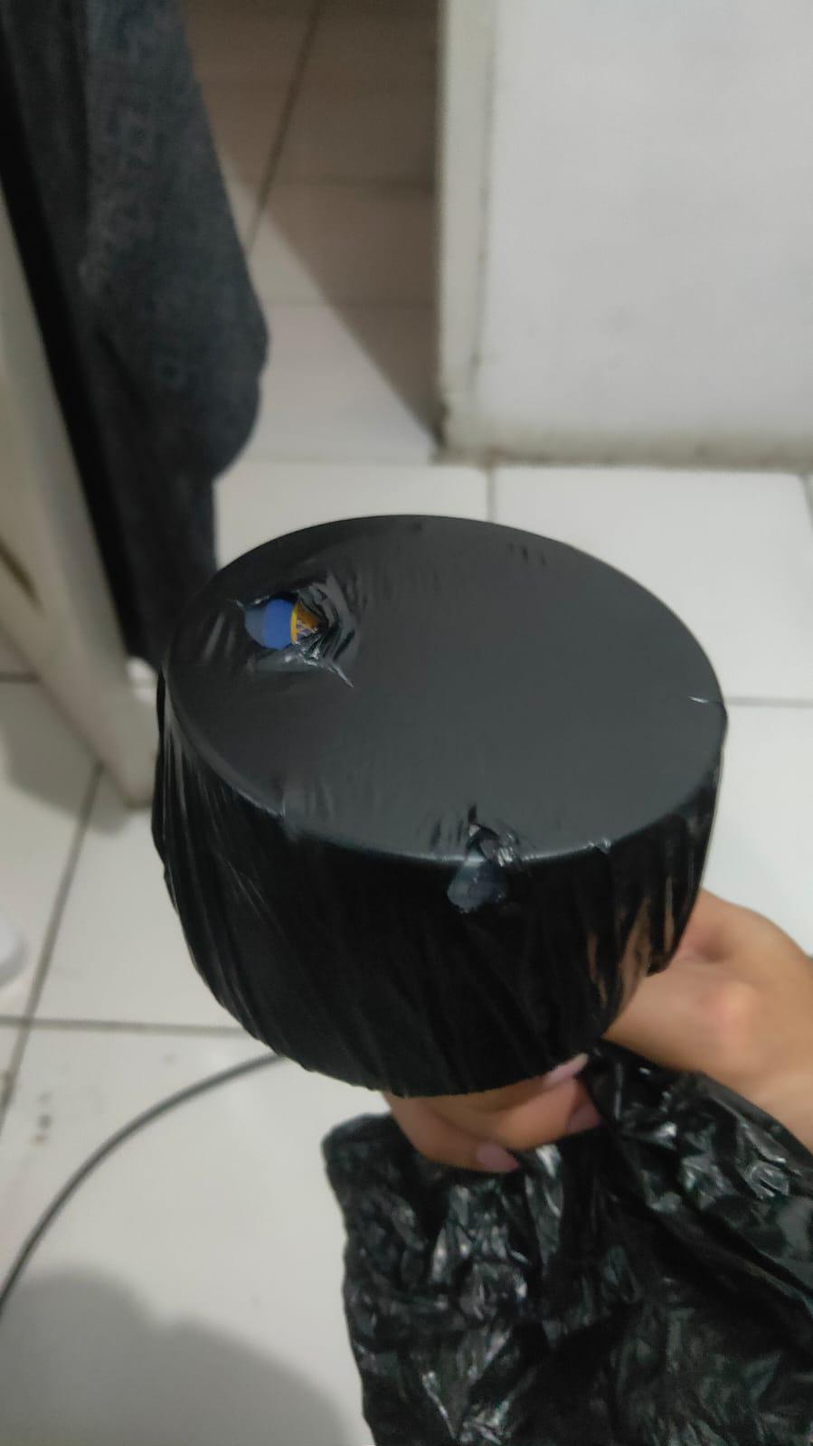damaged package: (421, 810, 524, 937), (221, 577, 346, 680)
undamaged: (126, 491, 738, 1105)
